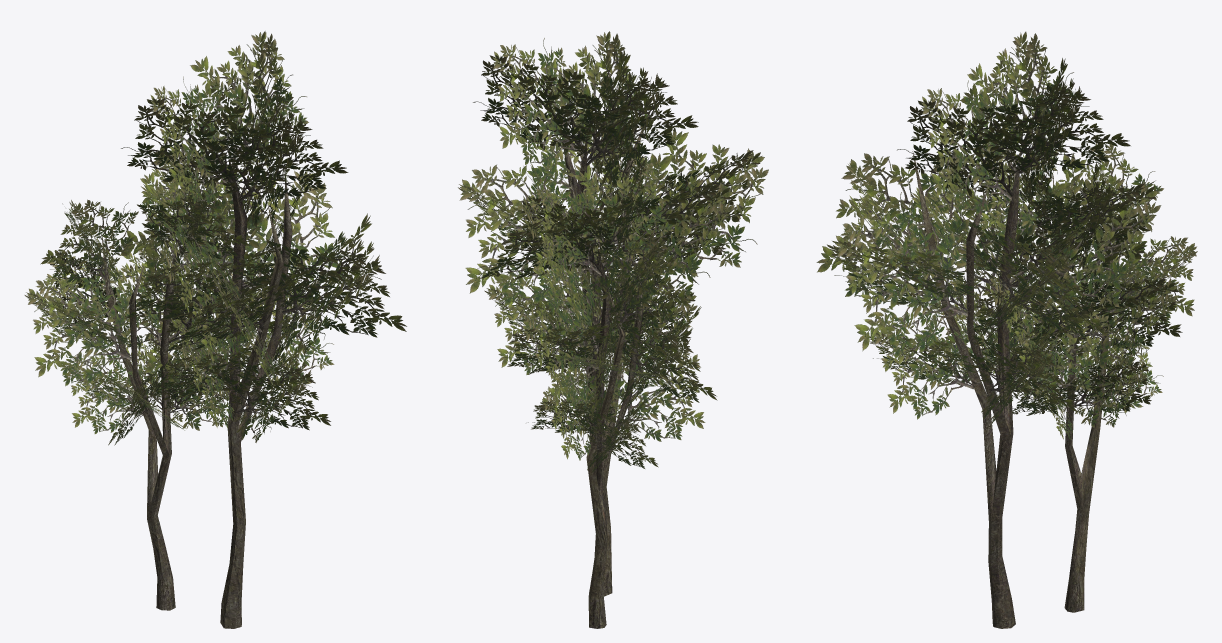
3 views of the same model, side by side, from view 1: azimuth 30°, elevation 25°; view 2: azimuth 150°, elevation 25°; view 3: azimuth 270°, elevation 25° (orthographic). The views are drawn at different scales.
Parts seen in each view (by area): view 1: Mesh3278_1, Mesh3278; view 2: Mesh3278_1, Mesh3278; view 3: Mesh3278_1, Mesh3278.
Part boxes in pixels (x1,y1,x2,y2): Mesh3278_1: (24,31,406,445); Mesh3278: (101,154,292,628); Mesh3278_1: (458,31,768,473); Mesh3278: (562,112,650,628); Mesh3278_1: (816,31,1197,439); Mesh3278: (912,151,1127,628).
Bounding box in the file's own units: 0.2974 × 0.5657 × 0.3532.
Materials: 2 (2 with a texture image).
